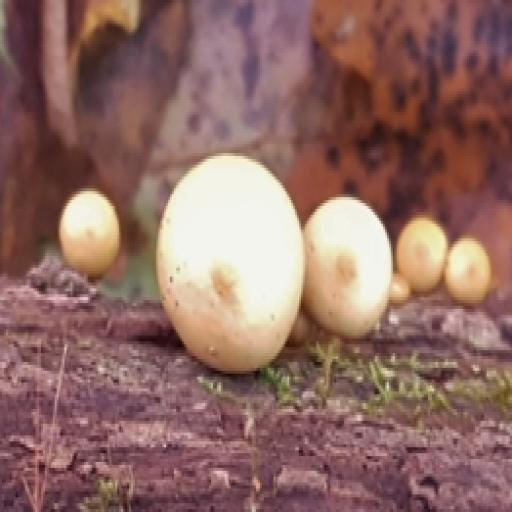mushroom: (155, 150, 495, 385), (50, 181, 126, 283)
